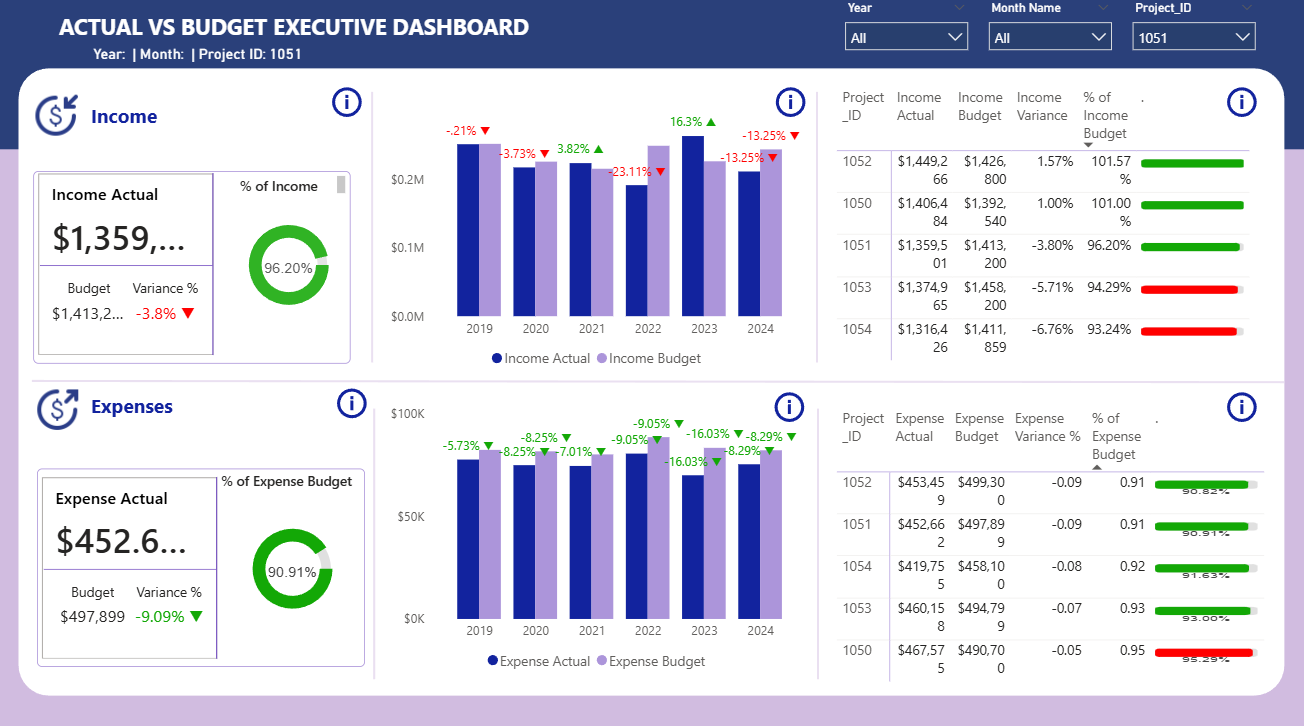

Layout of this report page (visuals, bound fields, positions):
{"tool":"powerbi","page":{"name":"Page 1","canvas":[1280,720],"ordinal":0},"visuals":[{"type":"slicer","fields":{"Values":["Performance Data.Year"]},"box":[817.1,0,140,62.9],"z":0},{"type":"shape","box":[36,170.6,309.5,187.8],"z":0,"group":"g1"},{"type":"shape","box":[38.8,460.4,320.3,193.2],"z":0,"group":"g2"},{"type":"slicer","fields":{"Values":["Performance Data.Month Name"]},"box":[957.1,0,140,62.9],"z":1000},{"type":"slicer","fields":{"Values":["Performance Data.Project_ID"]},"box":[1097.1,0,140,62.9],"z":2000},{"type":"group","id":"g1","title":"Group 1","box":[35.8,168.7,320.9,189.6],"z":3000},{"type":"cardVisual","fields":{"Data":["Key Measures.Income Actual"]},"box":[35.8,168.7,181,187],"z":4000,"group":"g1"},{"type":"group","id":"g2","title":"Group 1","box":[38.8,458.2,322.4,195.5],"z":4000},{"type":"cardVisual","fields":{"Data":["Key Measures.Expense Actual"]},"box":[38.9,464.4,181,187],"z":4000,"group":"g2"},{"type":"clusteredColumnChart","fields":{"Y":["Key Measures.Income Actual","Key Measures.Income Budget"],"Category":["Performance Data.Year"]},"box":[379.1,98.5,414.9,273.1],"z":5000},{"type":"cardVisual","fields":{"Data":["Key Measures.% of Income Budget"]},"box":[217.1,199,139.2,128.4],"z":5000,"group":"g1"},{"type":"cardVisual","fields":{"Data":["Key Measures.% of Expense Budget"]},"box":[220.1,494.7,139.2,128.4],"z":5000,"group":"g2"},{"type":"clusteredColumnChart","fields":{"Y":["Key Measures.Expense Actual","Key Measures.Expense Budget"],"Category":["Performance Data.Year"]},"box":[379.1,392.5,414.9,274.6],"z":6000},{"type":"pivotTable","fields":{"Rows":["Performance Data.Project_ID"],"Values":["Key Measures.Income Actual","Key Measures.Income Budget","Key Measures.Income Variance %","Key Measures.% of Income Budget","Key Measures.Income Bar Chart"]},"box":[814.9,83.6,435.8,277.6],"z":7000},{"type":"textbox","box":[209,170.6,136.5,31.1],"z":7001,"group":"g1"},{"type":"textbox","box":[205,458.2,155.4,39.2],"z":7001,"group":"g2"},{"type":"pivotTable","fields":{"Rows":["Performance Data.Project_ID"],"Values":["Key Measures.Expense Actual","Key Measures.Expense Budget","Key Measures.Expense Variance %","Key Measures.% of Expense Budget","Key Measures.Expense Bar Chart"]},"box":[814.9,397,435.8,277.6],"z":8000},{"type":"textbox","box":[86.6,98.5,113.4,35.8],"z":9000},{"type":"textbox","box":[86.6,382.1,113.4,38.8],"z":10000},{"type":"image","box":[28.4,73.1,58.2,86.6],"z":11000},{"type":"image","box":[0,374.6,117.9,58.2],"z":12000},{"type":"textbox","box":[49.8,10,479.3,38.4],"z":13000},{"type":"card","fields":{"Values":["Key Measures.Dynamic Header"]},"box":[22.8,42.7,345.6,29.9],"z":14000},{"type":"actionButton","box":[322.4,83.6,38.8,38.8],"z":15000},{"type":"actionButton","box":[326.9,377.6,40.3,38.8],"z":16000},{"type":"actionButton","box":[753.7,382.1,40.3,38.8],"z":17000},{"type":"actionButton","box":[1195.5,382.1,41.8,38.8],"z":18000},{"type":"actionButton","box":[755.2,83.6,40.3,38.8],"z":19000},{"type":"actionButton","box":[1195.5,83.6,41.8,38.8],"z":20000}]}

Visuals, with their boxes in screenshot pixels (x1, y1, x2, y2), scaled from the page's 1280x720 canvas onto the 1304x726 screenshot:
slicer - Performance Data.Year: x1=832 y1=0 x2=975 y2=63
shape: x1=37 y1=172 x2=352 y2=361
shape: x1=40 y1=464 x2=366 y2=659
slicer - Performance Data.Month Name: x1=975 y1=0 x2=1118 y2=63
slicer - Performance Data.Project_ID: x1=1118 y1=0 x2=1260 y2=63
"Group 1" group: x1=36 y1=170 x2=363 y2=361
cardVisual - Key Measures.Income Actual: x1=36 y1=170 x2=221 y2=359
"Group 1" group: x1=40 y1=462 x2=368 y2=659
cardVisual - Key Measures.Expense Actual: x1=40 y1=468 x2=224 y2=657
clusteredColumnChart - Key Measures.Income Actual x Key Measures.Income Budget: x1=386 y1=99 x2=809 y2=375
cardVisual - Key Measures.% of Income Budget: x1=221 y1=201 x2=363 y2=330
cardVisual - Key Measures.% of Expense Budget: x1=224 y1=499 x2=366 y2=628
clusteredColumnChart - Key Measures.Expense Actual x Key Measures.Expense Budget: x1=386 y1=396 x2=809 y2=673
pivotTable - Performance Data.Project_ID x Key Measures.Income Actual: x1=830 y1=84 x2=1274 y2=364
textbox: x1=213 y1=172 x2=352 y2=203
textbox: x1=209 y1=462 x2=367 y2=502
pivotTable - Performance Data.Project_ID x Key Measures.Expense Actual: x1=830 y1=400 x2=1274 y2=680
textbox: x1=88 y1=99 x2=204 y2=135
textbox: x1=88 y1=385 x2=204 y2=424
image: x1=29 y1=74 x2=88 y2=161
image: x1=0 y1=378 x2=120 y2=436
textbox: x1=51 y1=10 x2=539 y2=49
card - Key Measures.Dynamic Header: x1=23 y1=43 x2=375 y2=73
actionButton: x1=328 y1=84 x2=368 y2=123
actionButton: x1=333 y1=381 x2=374 y2=420
actionButton: x1=768 y1=385 x2=809 y2=424
actionButton: x1=1218 y1=385 x2=1260 y2=424
actionButton: x1=769 y1=84 x2=810 y2=123
actionButton: x1=1218 y1=84 x2=1260 y2=123
